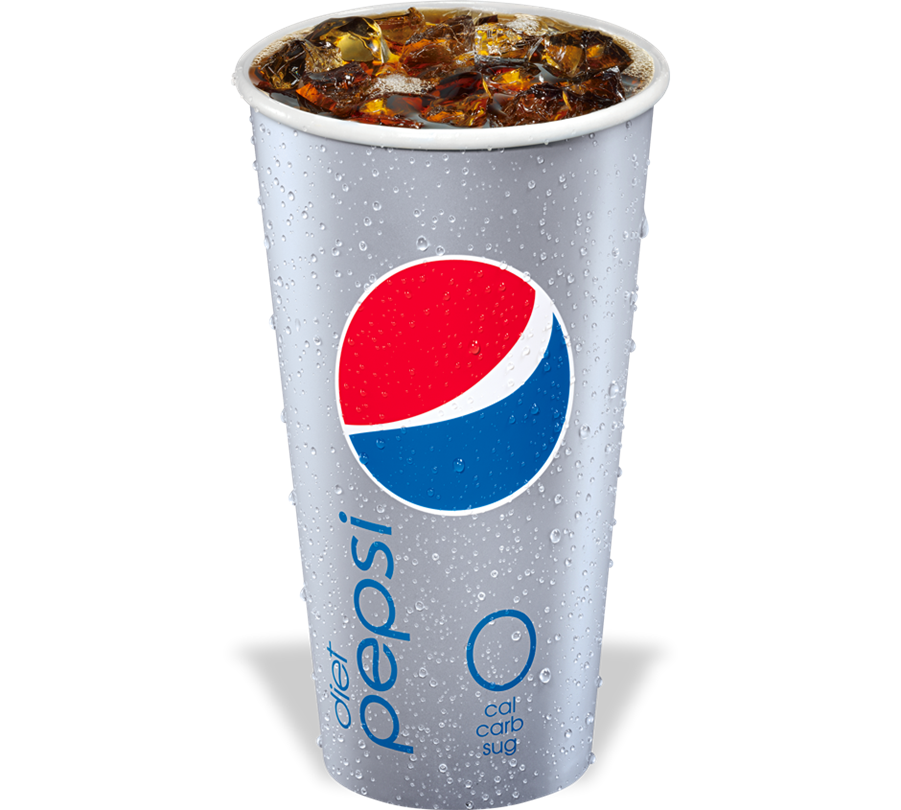pepsi: (333, 249, 576, 516), (333, 249, 570, 516), (344, 249, 570, 516)
